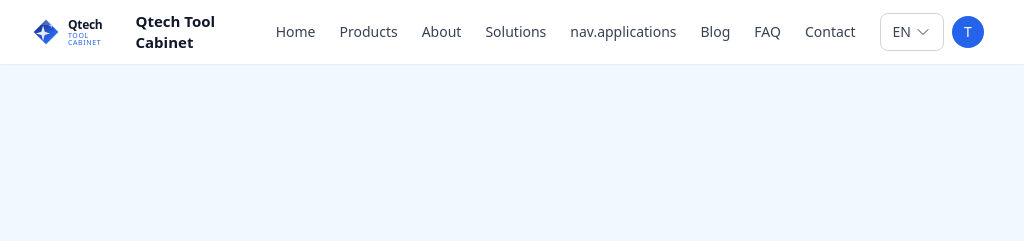
it: Navbar Component › should show user menu when authenticated and clicked
// Click user button to open menu
Click the button "T" at x=968, y=32, box x1=944 y1=8 x2=992 y2=56
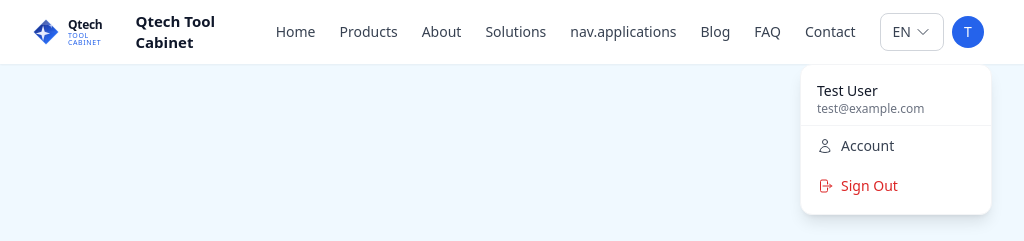
Check: the text "Account" is shown, box x1=841 y1=136 x2=894 y2=156
Check: the text "Sign Out" is shown, box x1=841 y1=176 x2=898 y2=196
